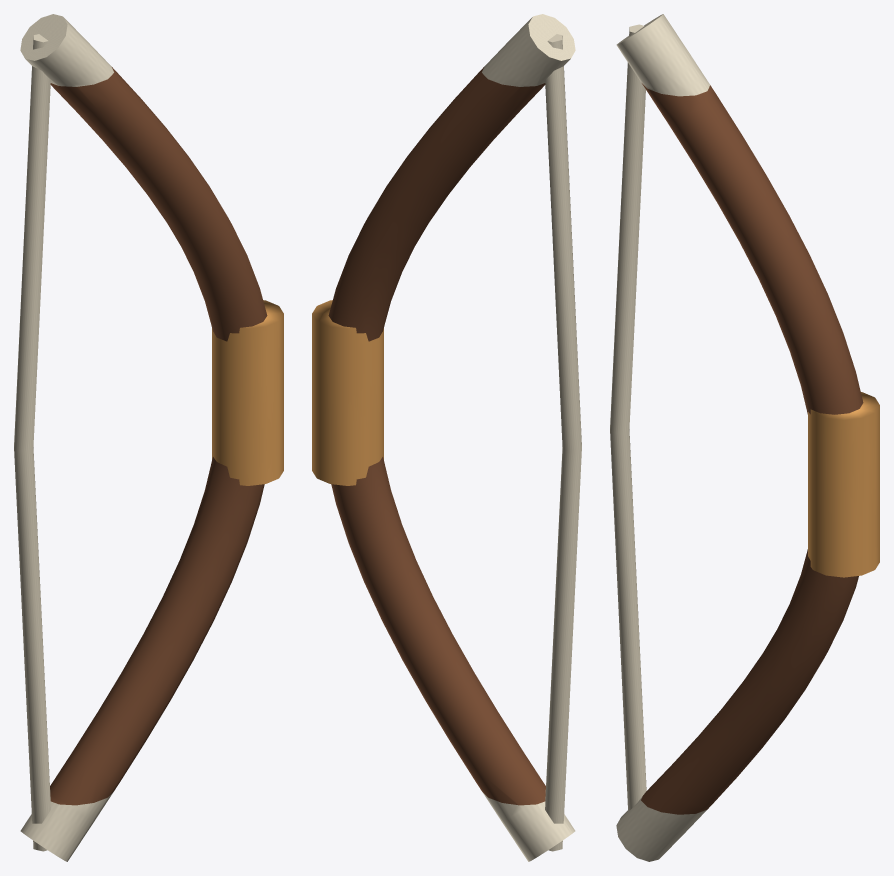
Rendered from BOW.glb.
The picture shows the model from 3 angles, left to right: view 1: azimuth 30°, elevation 25°; view 2: azimuth 150°, elevation 25°; view 3: azimuth 330°, elevation 25°; orthographic projection.
Visible parts, largest first — view 1: BOW; view 2: BOW; view 3: BOW.
Part boxes in pixels (x1,y1,x2,y2): BOW: [14, 14, 283, 861]; BOW: [312, 14, 581, 861]; BOW: [610, 14, 879, 861].
Size of the model in its own units: 0.2469 by 0.7493 by 0.058.
Materials: 3 (2 with a texture image).
